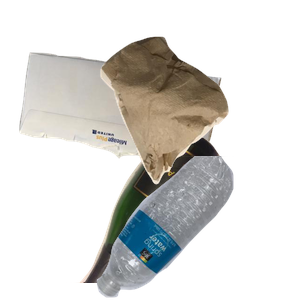glass: (66, 120, 279, 300)
paper: (17, 50, 231, 230)
plastic: (94, 156, 300, 300)
trash: (98, 34, 300, 211)
